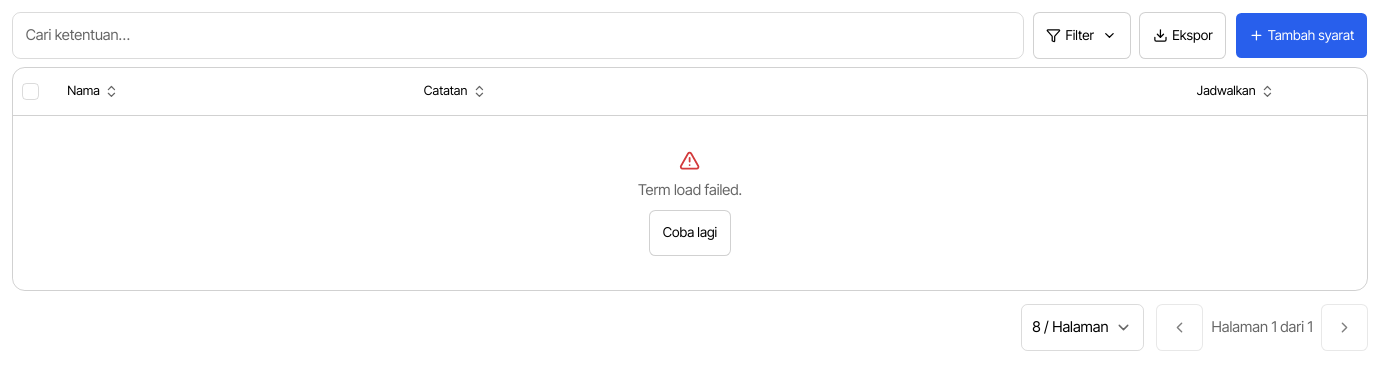
Scenario: PaymentTermsSection remainder › shows the error state with retry when loading fails
Check: the text "Term load failed." is shown, box [638,180,742,201]
Click the button "Coba lagi".
click(690, 233)  # box [649,210,731,256]
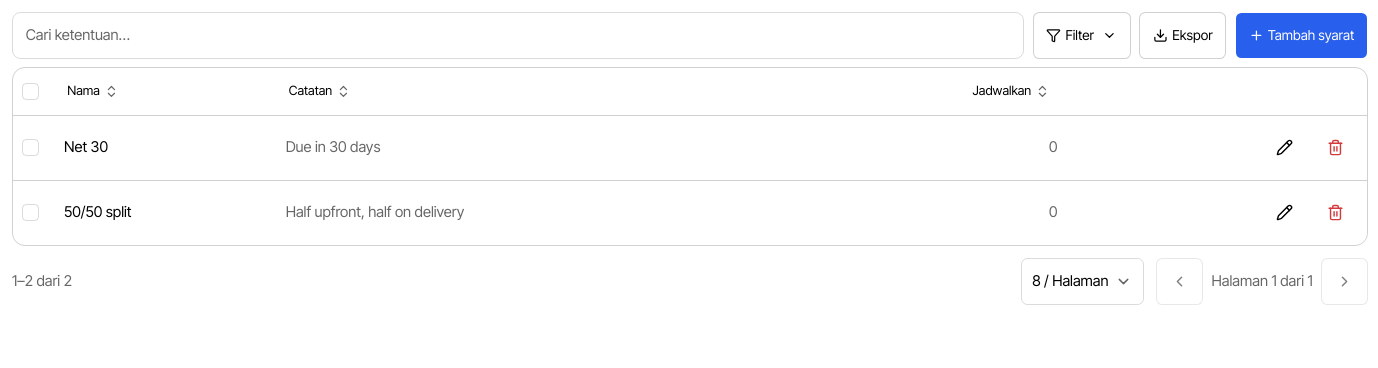
Check: the text "Net 30" is shown, box [64,138,108,156]
